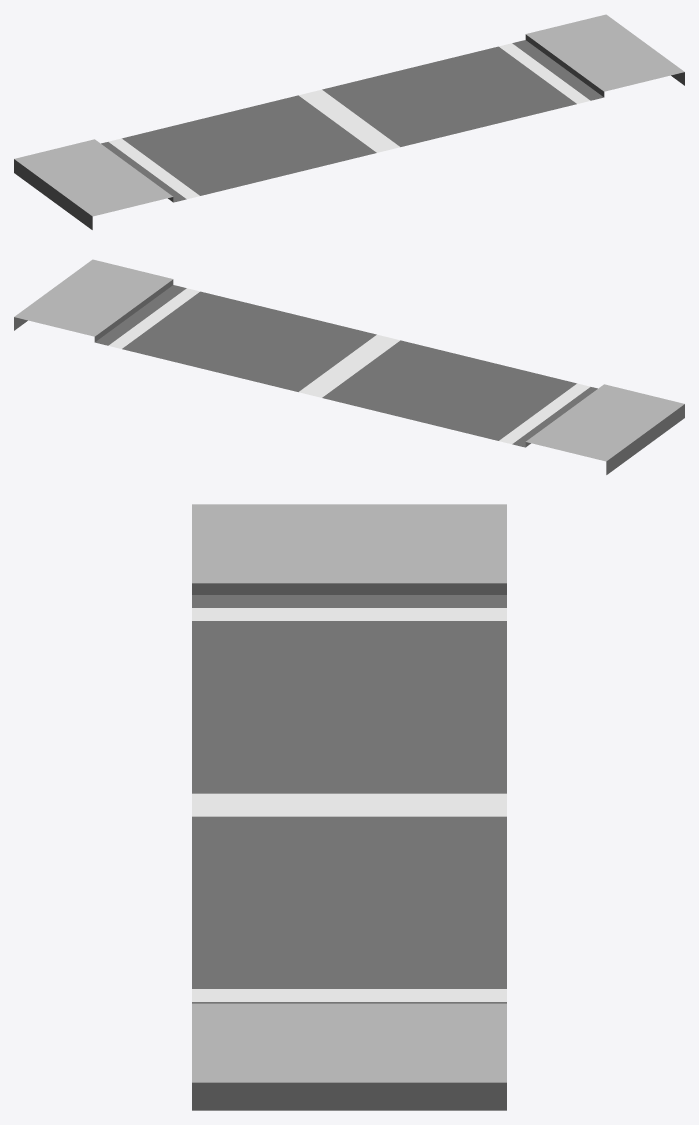
Rendered from Road0.fbx.
3 views of the same model, one above another, from view 1: azimuth 30°, elevation 25°; view 2: azimuth 150°, elevation 25°; view 3: azimuth 270°, elevation 25° (orthographic). The views are drawn at different scales.
Parts seen in each view (by area): view 1: Road; view 2: Road; view 3: Road.
Boxes of the visible parts, left/top/right/bottom form: Road: left=14, top=14, right=684, bottom=229; Road: left=14, top=259, right=684, bottom=474; Road: left=192, top=504, right=506, bottom=1110.
Bounding box in the file's own units: 3778 × 85.27 × 870.
